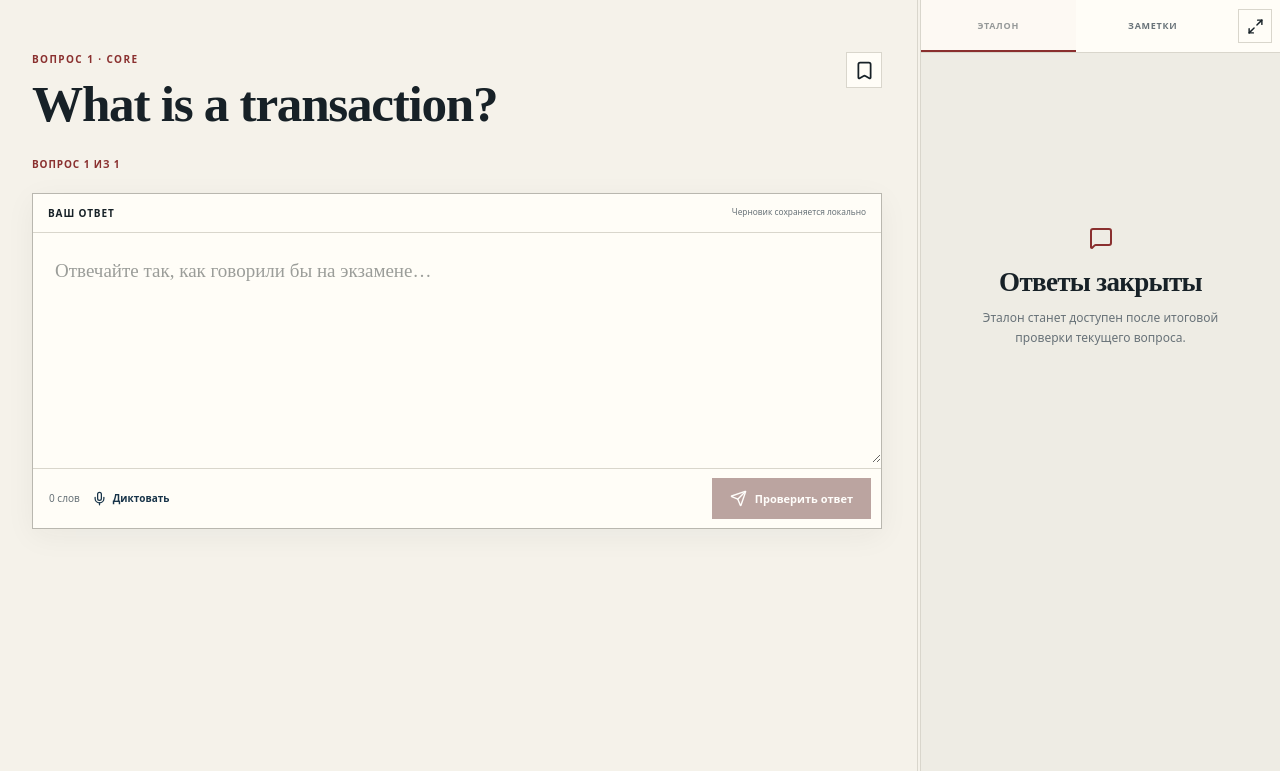
Workspace › clears the editor after a clarification and keeps the previous turn visible
Type "Короткий ответ" into the text box named "ответ на вопрос" at (457,348), box [33, 233, 881, 463]
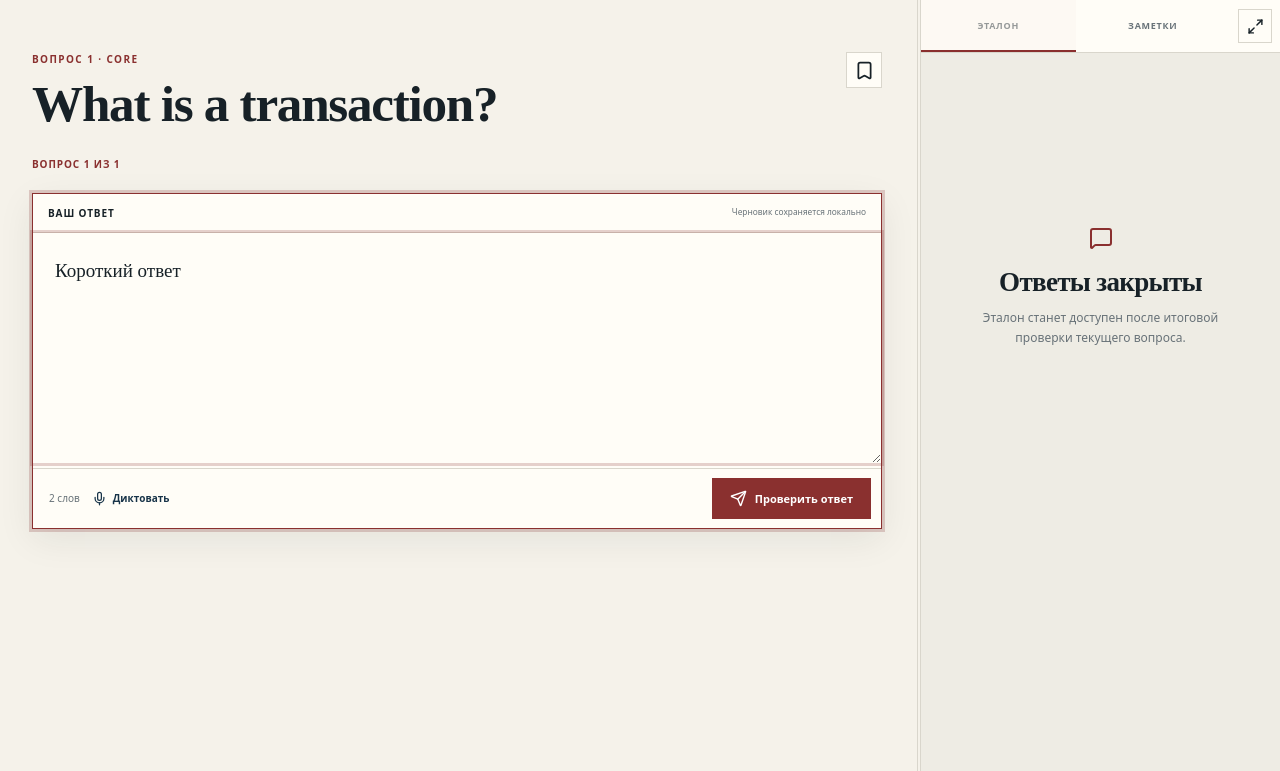
Click the button "Проверить ответ" at (791,498), box [712, 478, 871, 519]
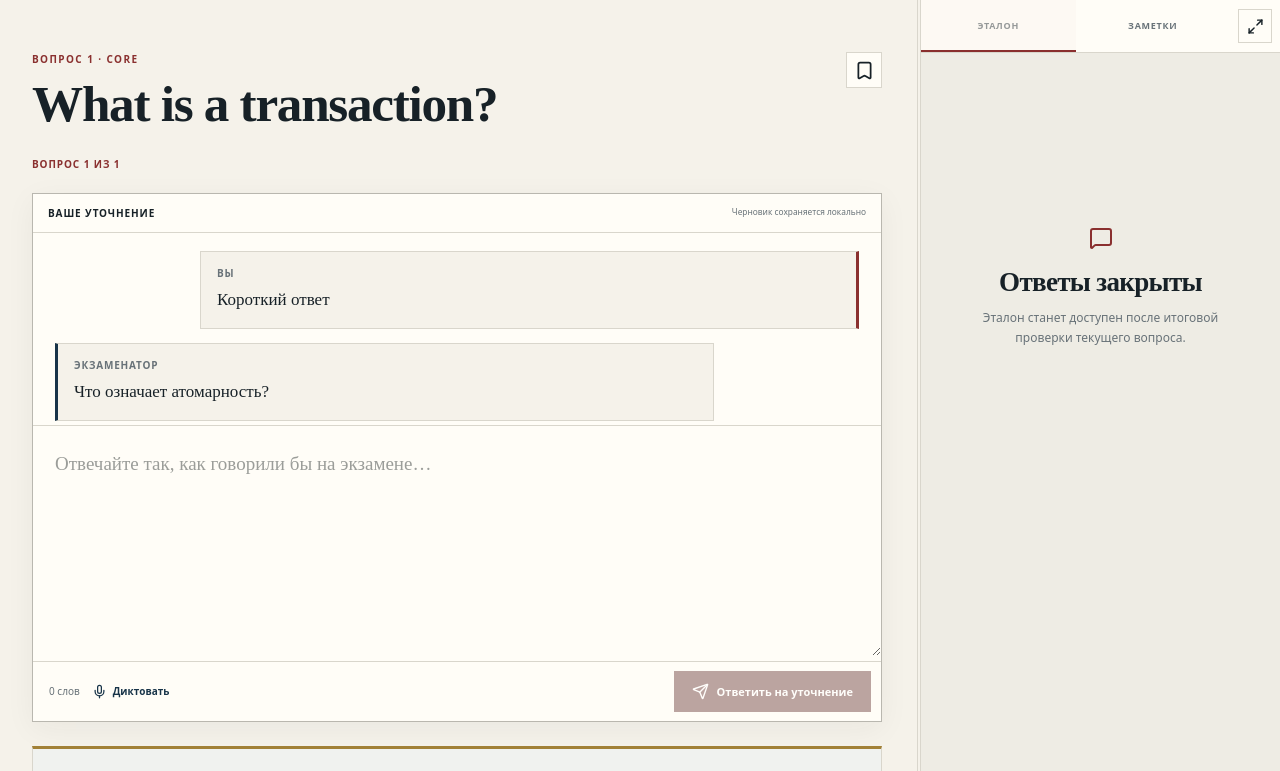
Check: the text "Что означает атомарность?" is shown once, box [74, 382, 269, 401]
Check: the text box with placeholder "Отвечайте так, как говорили бы на экзамене…" is empty, box [33, 426, 881, 656]
Check: the text "Короткий ответ" is shown once, box [217, 290, 330, 309]
